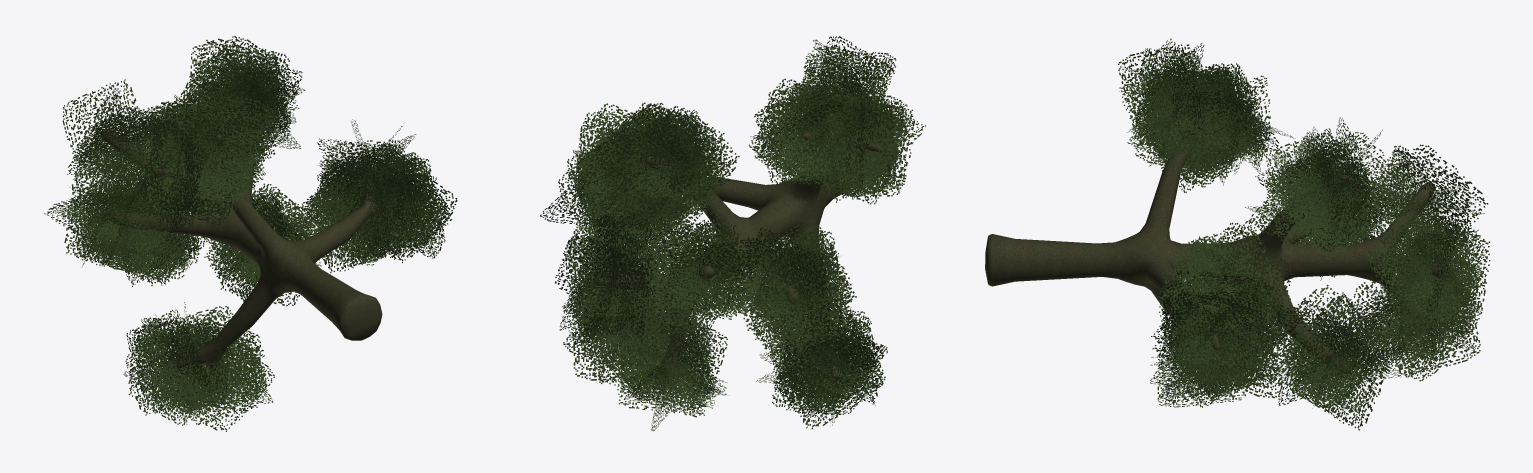
The model's file is SwampTree1.fbx.
3 renders of one model, left to right at view 1: azimuth 30°, elevation 25°; view 2: azimuth 150°, elevation 25°; view 3: azimuth 270°, elevation 25°, orthographic. The views are drawn at different scales.
Visible parts, largest first — view 1: SwampTree1; view 2: SwampTree1; view 3: SwampTree1.
Boxes of the visible parts, x1=… form: SwampTree1: x1=44, y1=36, x2=457, y2=431; SwampTree1: x1=540, y1=36, x2=925, y2=431; SwampTree1: x1=985, y1=38, x2=1490, y2=430.
Size of the model in its own units: 4744 by 4741 by 5636.
